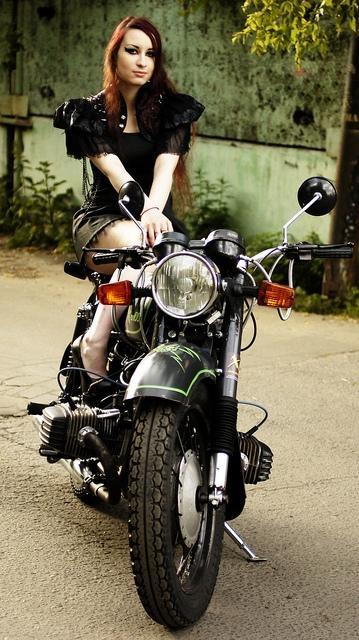motorcycle: (91, 174, 335, 631)
